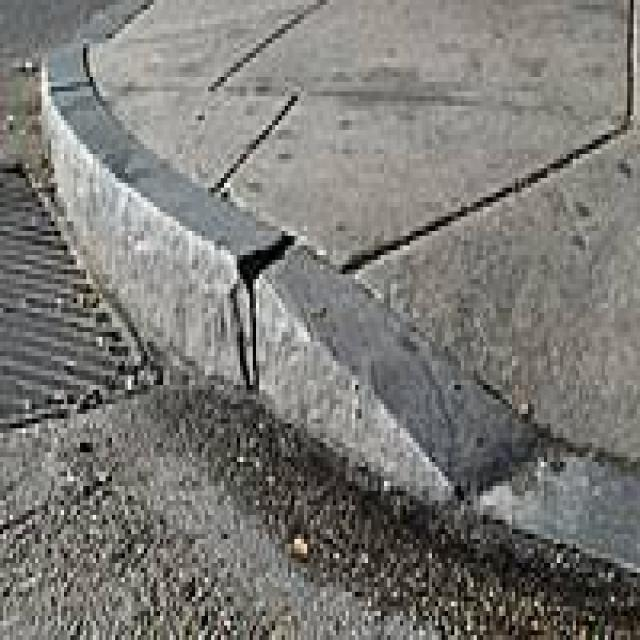bump: (15, 31, 431, 452)
